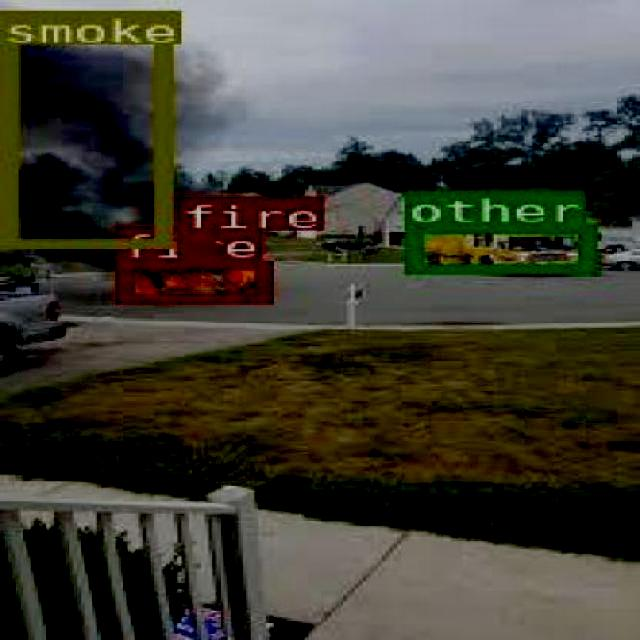fire: (116, 259, 266, 301), (176, 230, 210, 255)
smoke: (0, 9, 166, 246)
